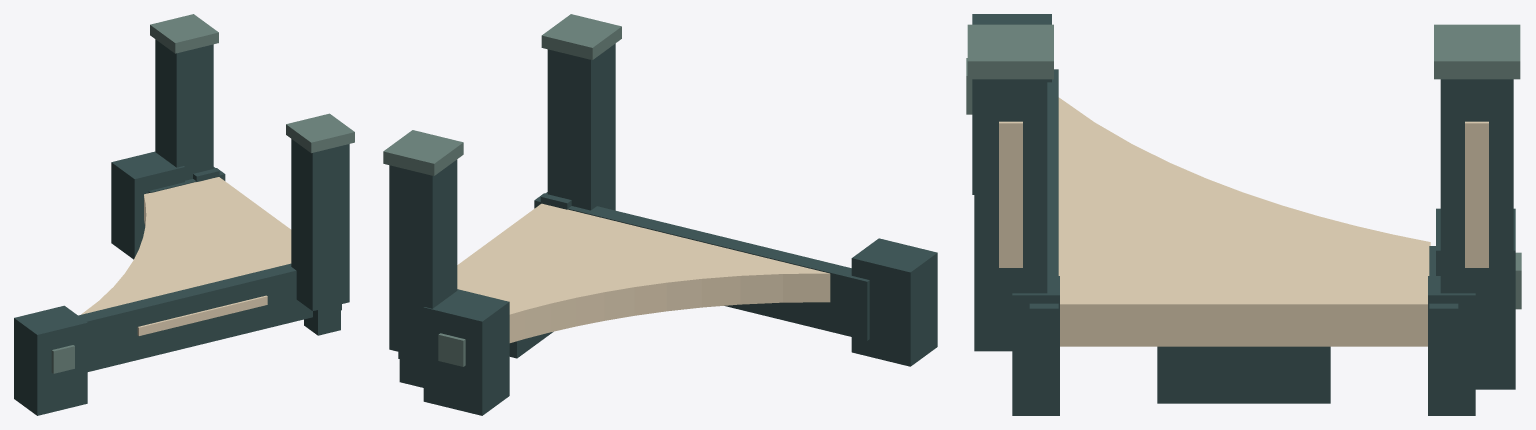
The model's file is Pier_Angled_40_Switch_lab2.glb.
The picture shows the model from 3 angles, left to right: view 1: azimuth 30°, elevation 25°; view 2: azimuth 150°, elevation 25°; view 3: azimuth 270°, elevation 25°; orthographic projection. The views are drawn at different scales.
Parts seen in each view (by area): view 1: Pier_Angled_40_Switch; view 2: Pier_Angled_40_Switch; view 3: Pier_Angled_40_Switch.
Boxes of the visible parts, left/top/right/bottom form: Pier_Angled_40_Switch: left=14, top=14, right=354, bottom=415; Pier_Angled_40_Switch: left=383, top=14, right=937, bottom=415; Pier_Angled_40_Switch: left=966, top=14, right=1521, bottom=415.
Size of the model in its own units: 4.77 by 2.95 by 4.17.
